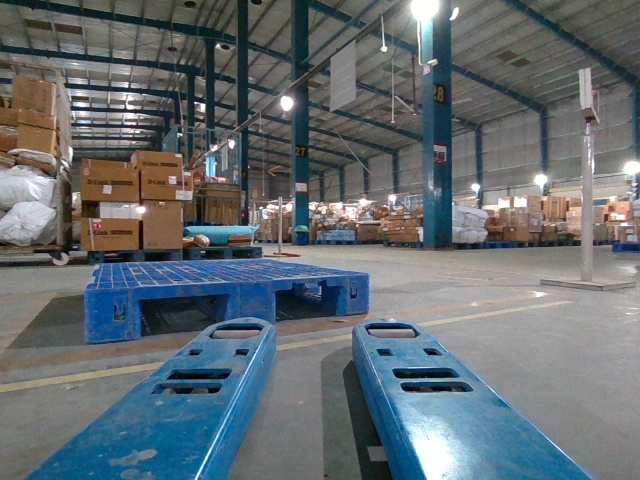block: (83, 285, 140, 343), (225, 280, 278, 324), (345, 274, 369, 314)
front: (86, 271, 368, 342)
hole pallet: (140, 295, 226, 337), (274, 286, 343, 321)
